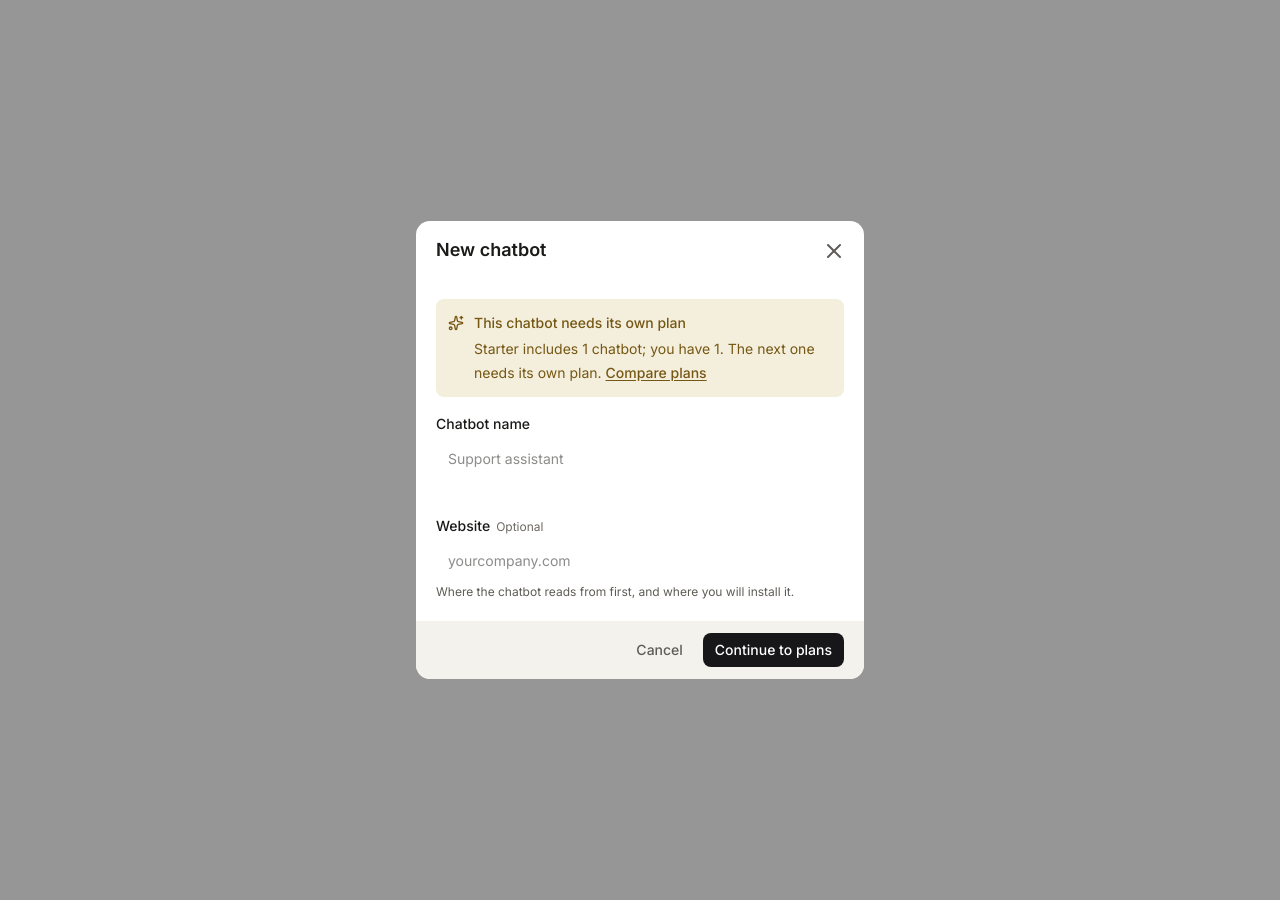
Test: CreateAgentDialog plan filter › offers paid, finite-quota plans and hides the unlimited-agents tier
This screenshot has width=1280, height=900.
Type "Second Assistant" into the field labelled "Chatbot name" at (640, 458), box x1=436 y1=441 x2=844 y2=475
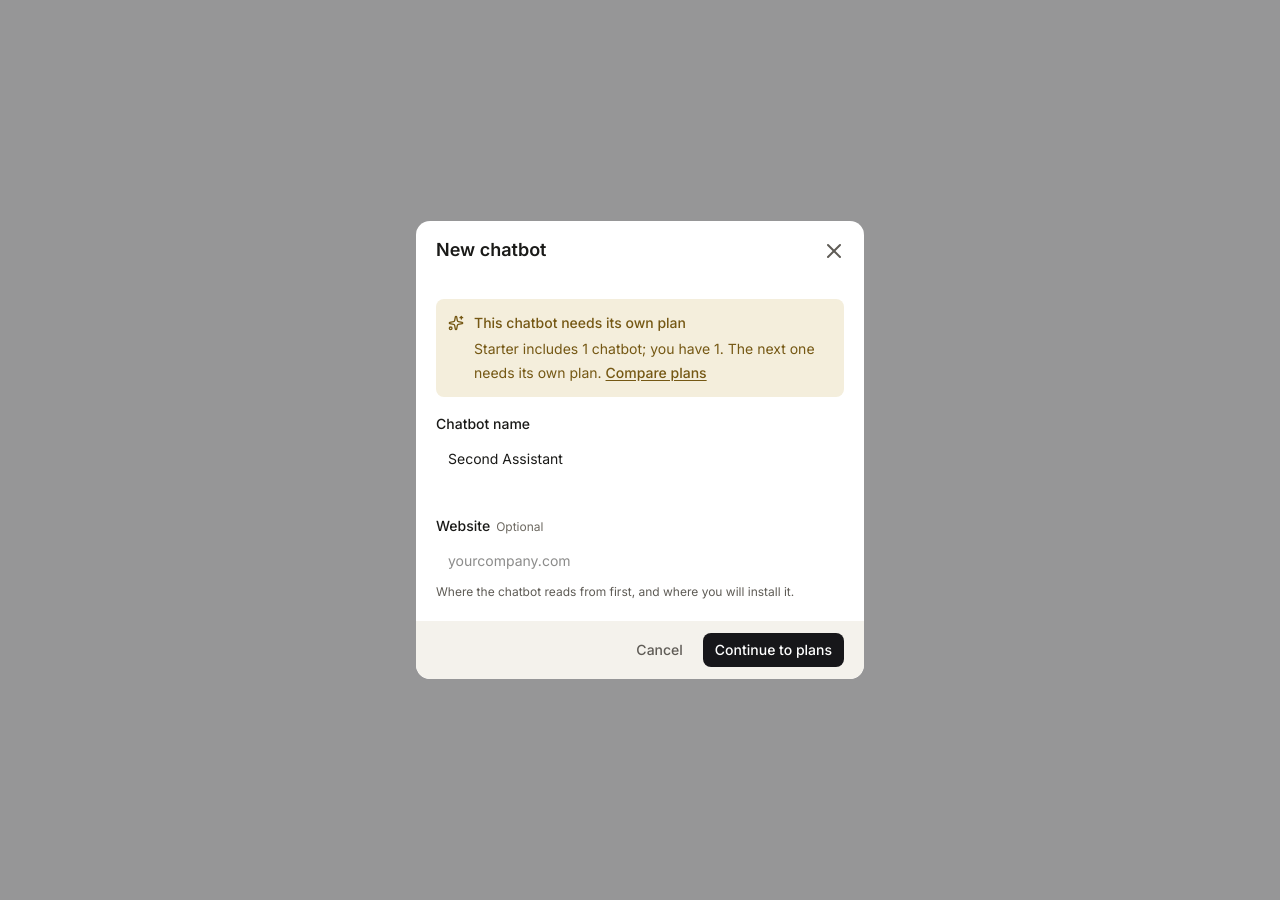
Click the button "Continue to plans" at (773, 650), box x1=703 y1=633 x2=844 y2=667
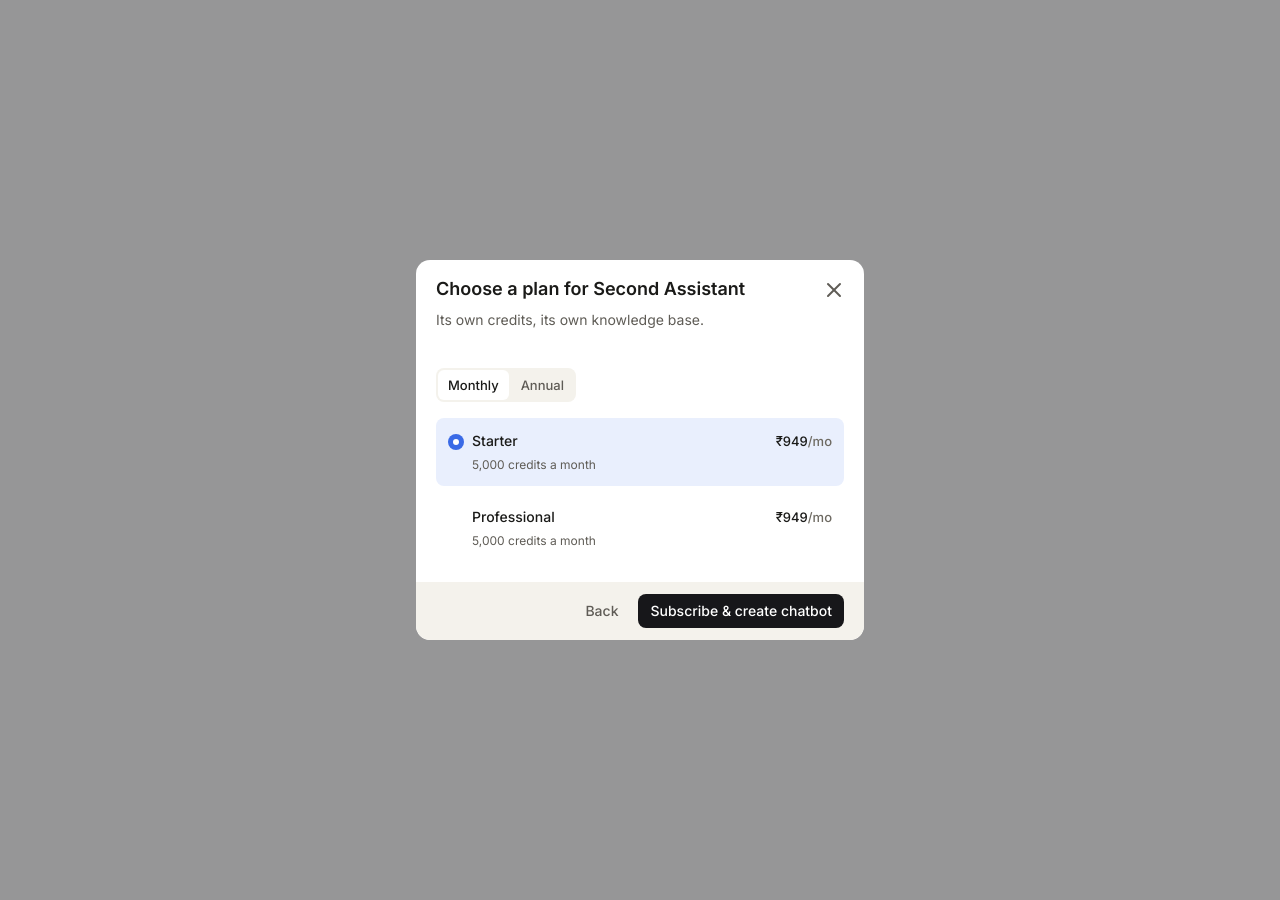
Check: the text "Starter" is shown, box x1=472 y1=432 x2=518 y2=449
Check: the element named "Plan" is shown, box x1=436 y1=418 x2=844 y2=562
Check: the text "Professional" is shown, box x1=472 y1=508 x2=555 y2=525
